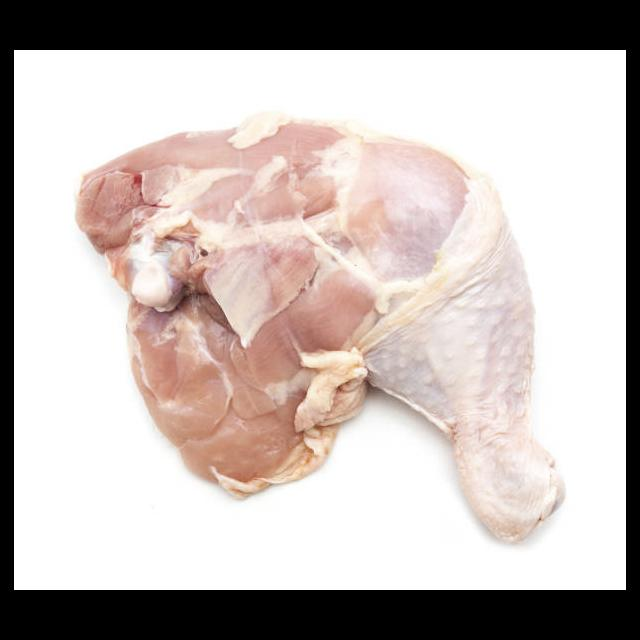chicken: (75, 120, 569, 544)
